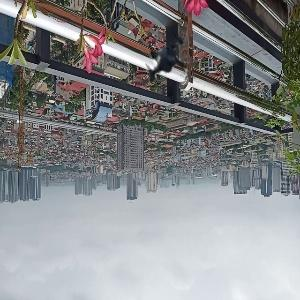drone: (128, 24, 215, 111)
